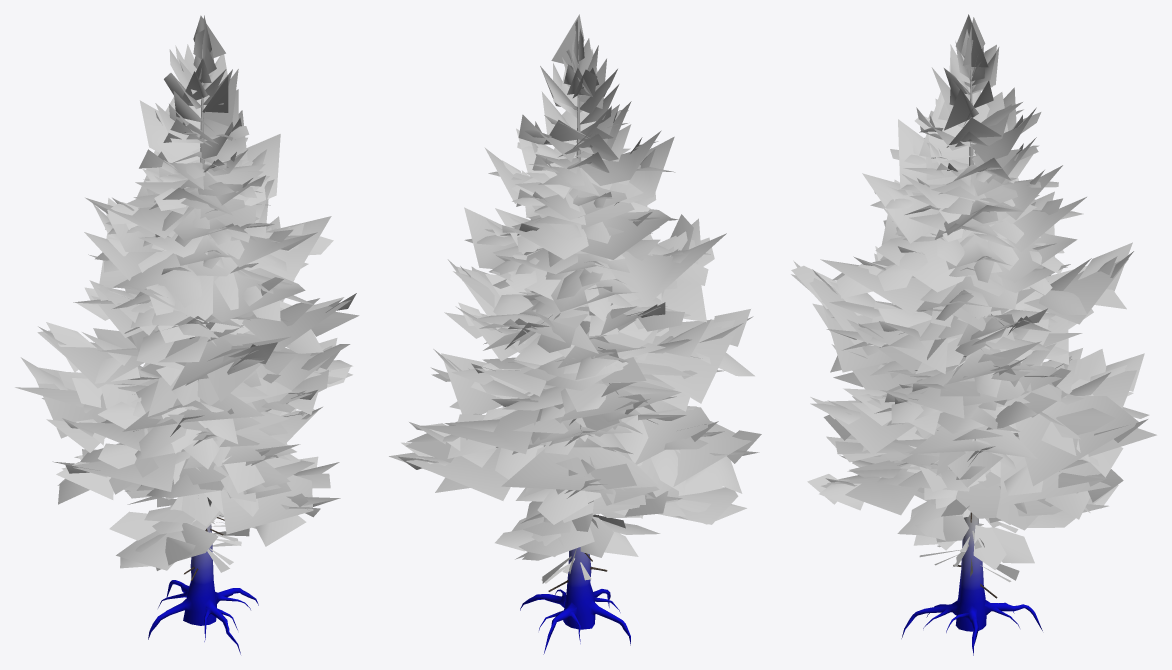
Rendered from Tree5_LOD1.fbx.
3 views of the same model, side by side, from view 1: azimuth 30°, elevation 25°; view 2: azimuth 150°, elevation 25°; view 3: azimuth 270°, elevation 25° (orthographic).
Parts seen in each view (by area): view 1: polySurface1966; view 2: polySurface1966; view 3: polySurface1966.
Part boxes in pixels (x1,y1,x2,y2): polySurface1966: (15, 15, 359, 654); polySurface1966: (389, 14, 761, 654); polySurface1966: (791, 14, 1156, 655).
Size of the model in its own units: 526 by 994 by 530.
